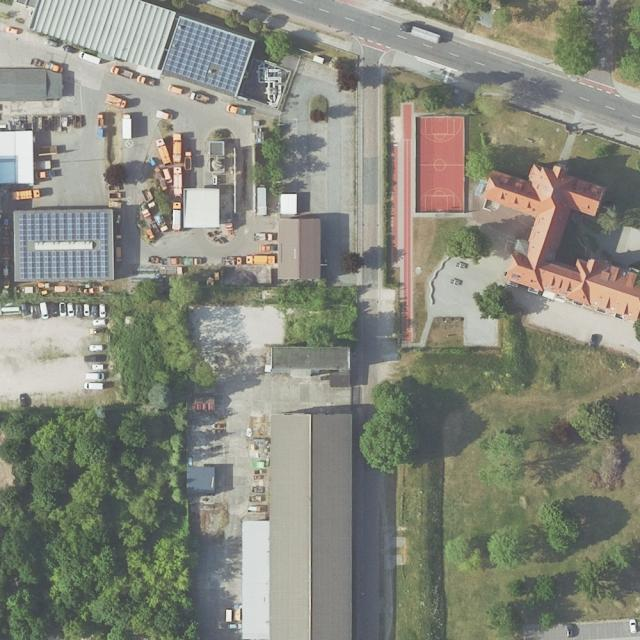PV: (165, 17, 253, 92), (19, 212, 109, 279), (27, 239, 100, 252)
